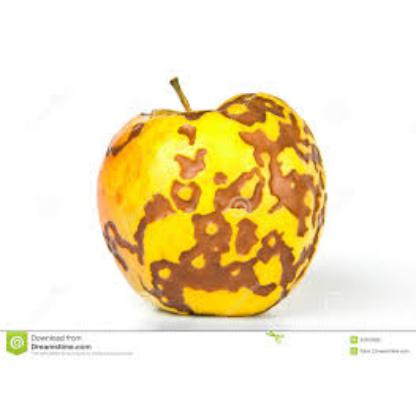apple: (106, 90, 324, 308)
